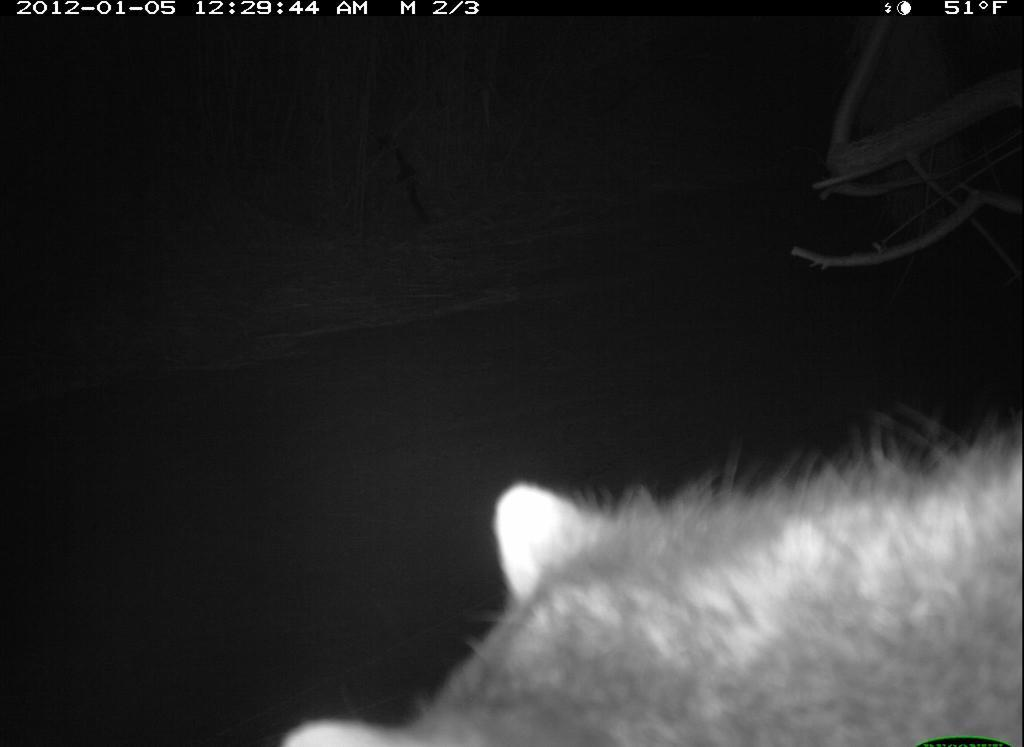raccoon: (263, 433, 1022, 747)
